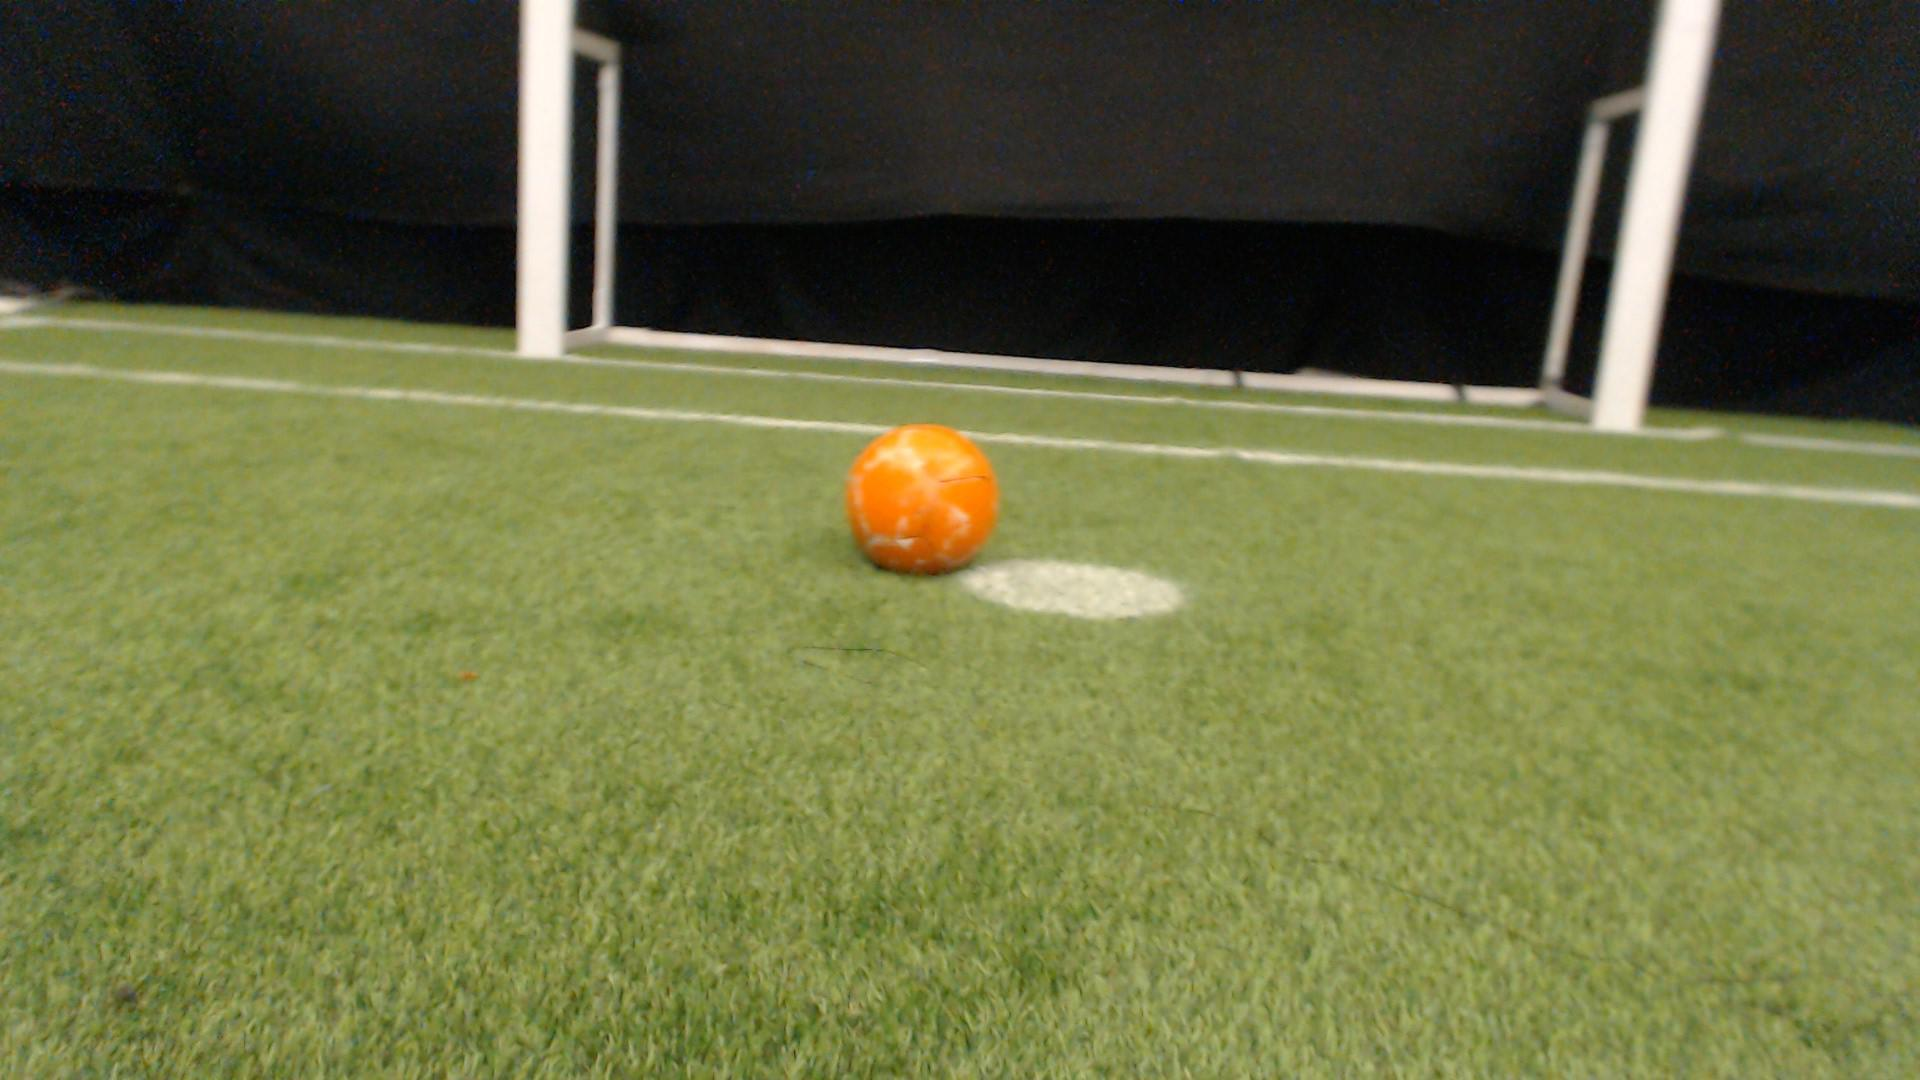bola: (824, 415, 1007, 575)
